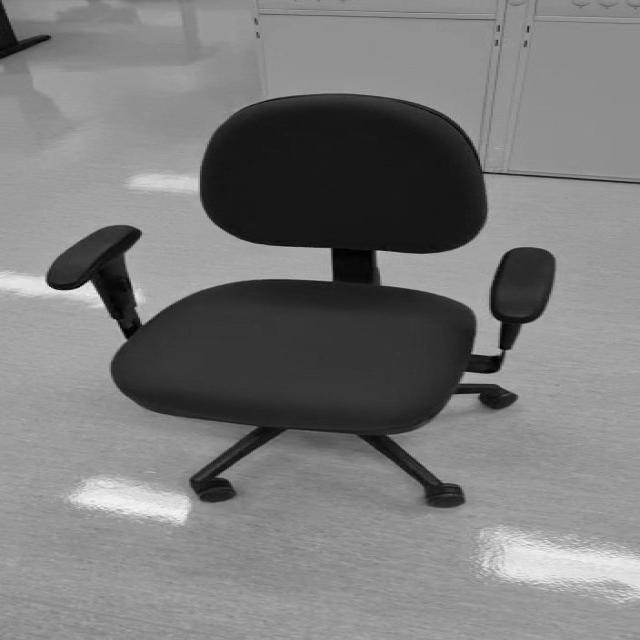chair: (48, 92, 558, 506)
